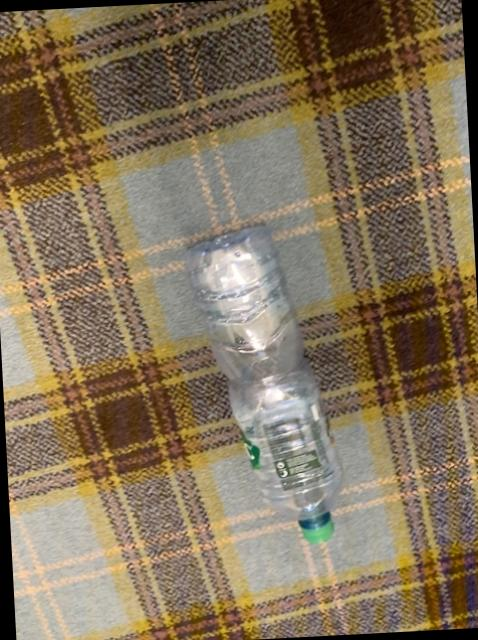plastic: (186, 229, 341, 545)
